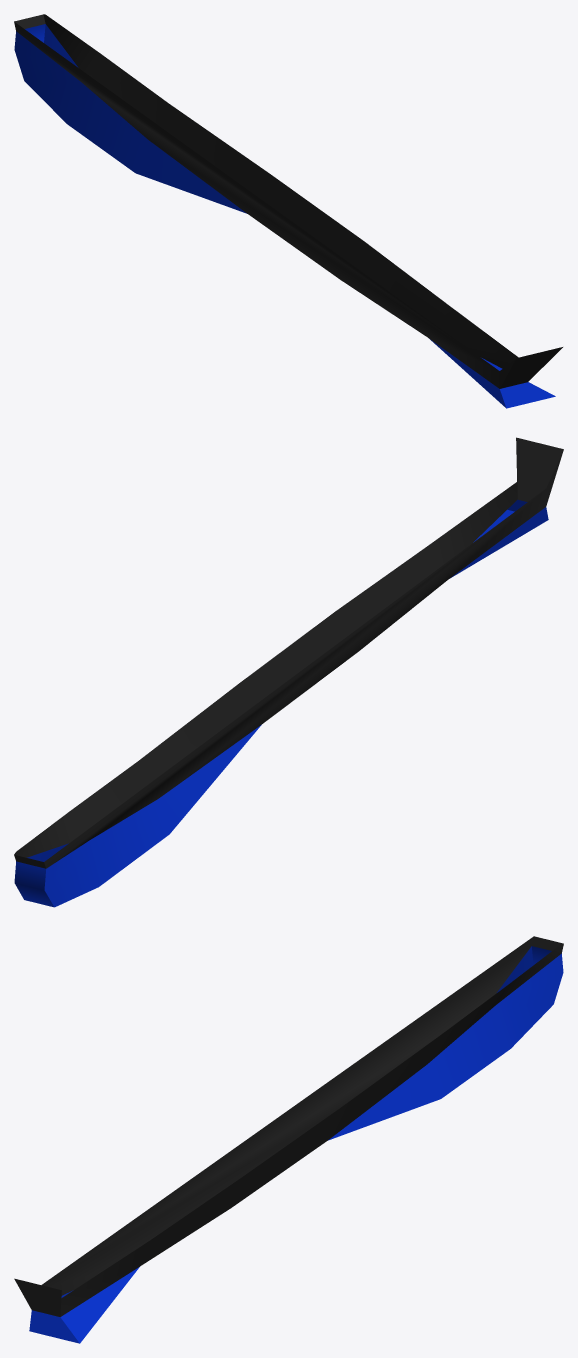
The model's file is Classic_1_Sidepanel_3_R.fbx.
3 views of the same model, one above another, from view 1: azimuth 30°, elevation 25°; view 2: azimuth 150°, elevation 25°; view 3: azimuth 330°, elevation 25° (orthographic). The views are drawn at different scales.
Visible parts, largest first — view 1: Classic_1_Sidepanel_3_R; view 2: Classic_1_Sidepanel_3_R; view 3: Classic_1_Sidepanel_3_R.
Boxes of the visible parts, box(x1,y1,x2,y2) form: Classic_1_Sidepanel_3_R: box(14, 14, 562, 408); Classic_1_Sidepanel_3_R: box(14, 437, 563, 907); Classic_1_Sidepanel_3_R: box(14, 936, 563, 1343).
Bounding box in the file's own units: 11.77 × 21.21 × 198.
